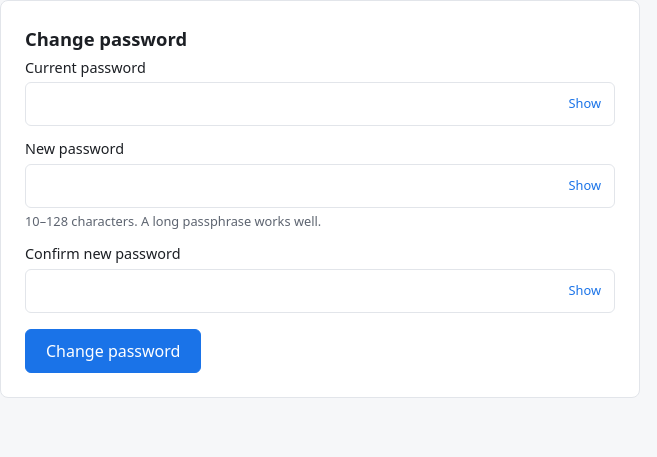
PasswordSection › changes the password with the current one
In the password field labelled "Current password": (320, 104) [25, 82, 615, 126], type "old passphrase"
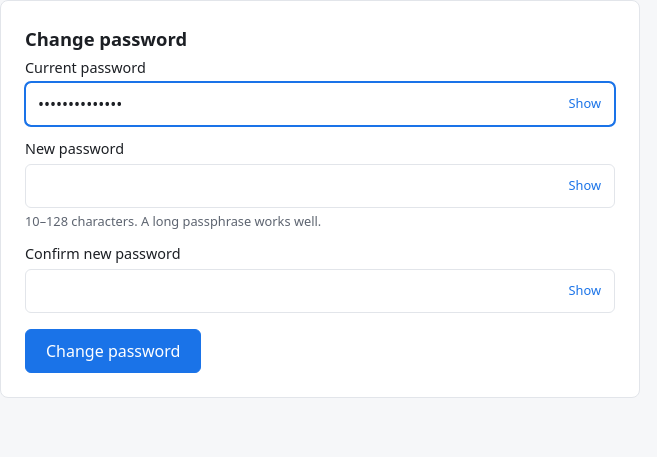
In the password field labelled "New password": (320, 186) [25, 164, 615, 208], type "brand new passphrase"
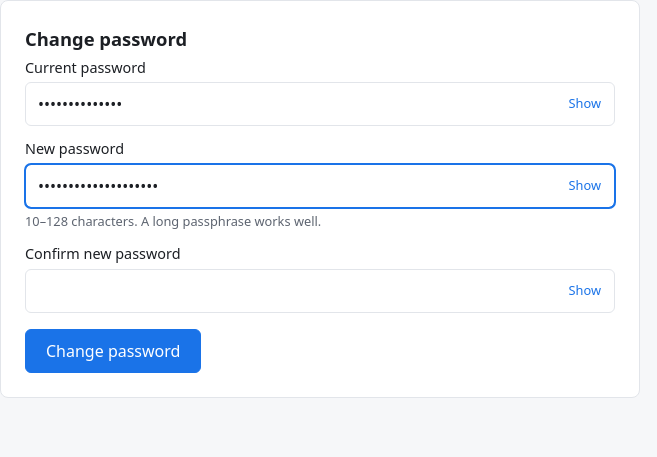
In the password field labelled "Confirm new password": (320, 291) [25, 269, 615, 313], type "brand new passphrase"
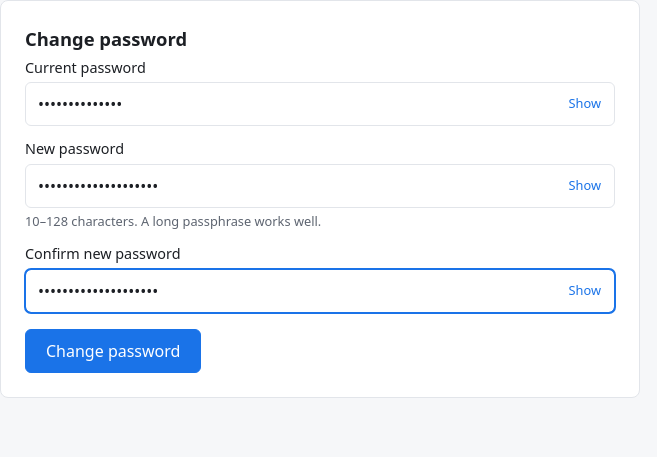
Click the button "Change password": (113, 351) [25, 329, 201, 373]
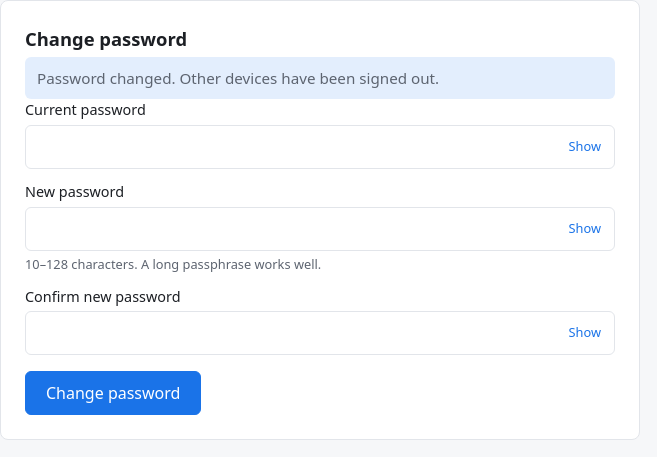
Expected: the message reads "Password changed. Other devices have been signed out.", [37, 68, 439, 88]
